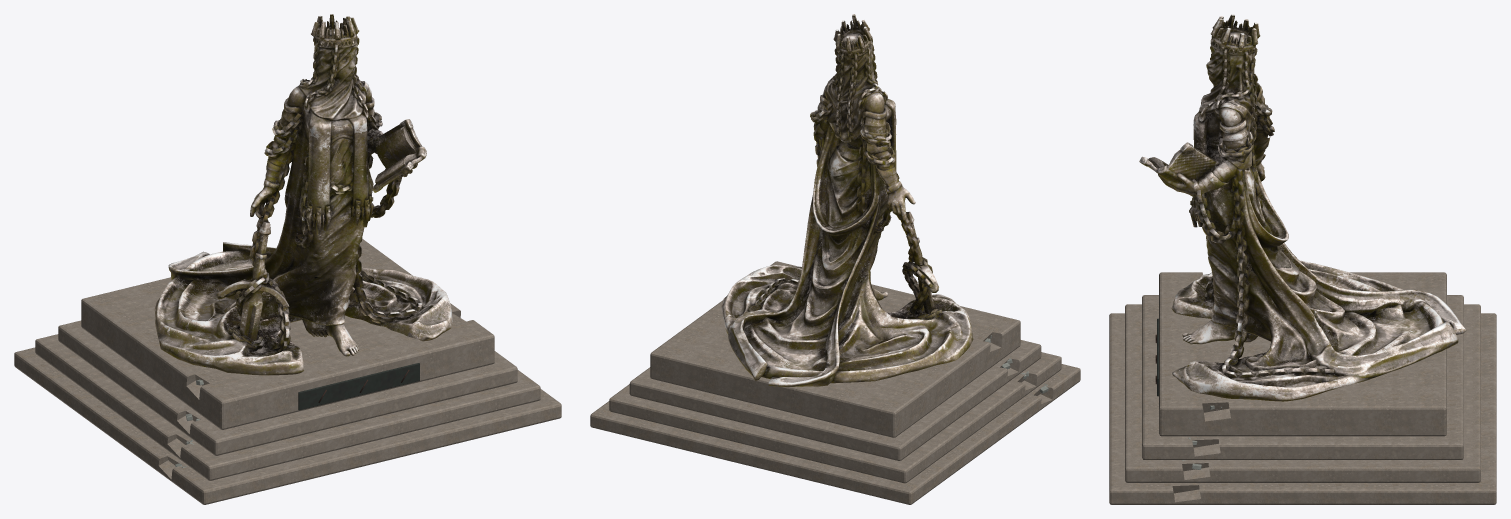
Rendered from f3_v3_memory_monument.glb.
The picture shows the model from 3 angles, left to right: view 1: azimuth 30°, elevation 25°; view 2: azimuth 150°, elevation 25°; view 3: azimuth 270°, elevation 25°; orthographic projection. The views are drawn at different scales.
Parts seen in each view (by area): view 1: f3_weathered_concrete_surface, gothic_statue_surface, f3_deep_crack_surface; view 2: f3_weathered_concrete_surface, gothic_statue_surface; view 3: f3_weathered_concrete_surface, gothic_statue_surface.
Boxes of the visible parts, x1,y1,x2,y2 form: f3_weathered_concrete_surface: (14, 239, 561, 504); gothic_statue_surface: (154, 14, 452, 375); f3_deep_crack_surface: (298, 363, 419, 410); f3_weathered_concrete_surface: (590, 261, 1080, 504); gothic_statue_surface: (721, 14, 973, 386); f3_weathered_concrete_surface: (1109, 272, 1496, 504); gothic_statue_surface: (1139, 14, 1466, 401).
Bounding box in the file's own units: 7.4 × 7.9 × 6.8.
6 materials, 6 textured.
